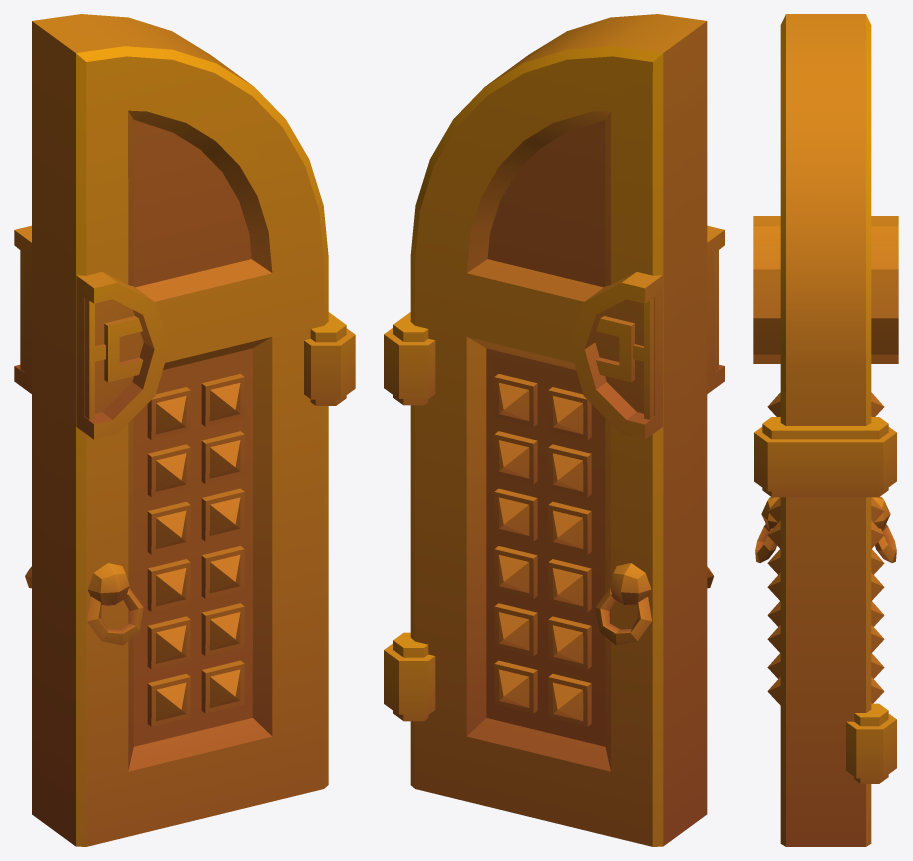
Rendered from door_right.glb.
The picture shows the model from 3 angles, left to right: view 1: azimuth 30°, elevation 25°; view 2: azimuth 150°, elevation 25°; view 3: azimuth 270°, elevation 25°; orthographic projection. The views are drawn at different scales.
Visible parts, largest first — view 1: door_right; view 2: door_right; view 3: door_right.
Part boxes in pixels (box(x1,y1,x2,y2)): door_right: box(14, 14, 355, 846); door_right: box(384, 14, 724, 846); door_right: box(753, 14, 898, 846).
Size of the model in its own units: 1.07 by 3 by 0.5475.
Materials: 1 (1 with a texture image).
